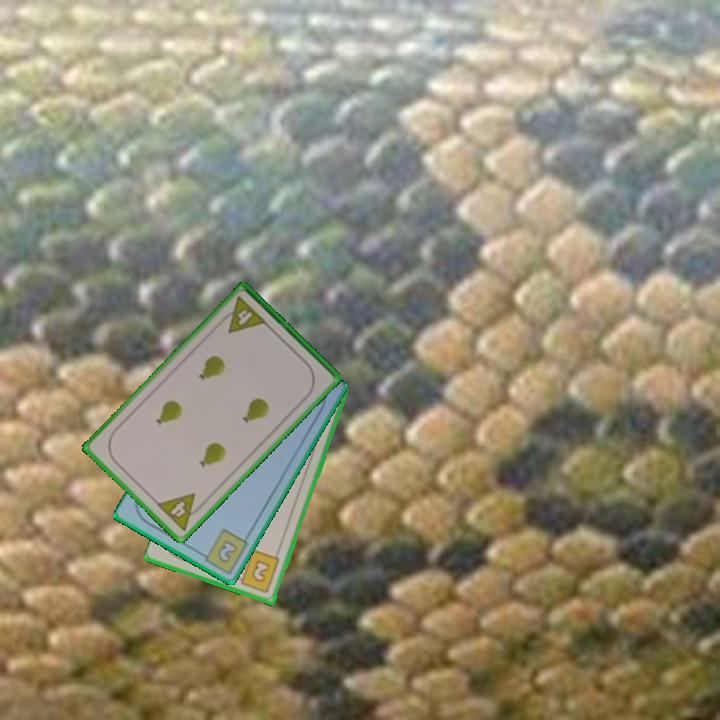2b: (195, 525, 251, 577), (232, 547, 283, 596)
4p: (153, 490, 208, 534), (216, 293, 269, 336)
